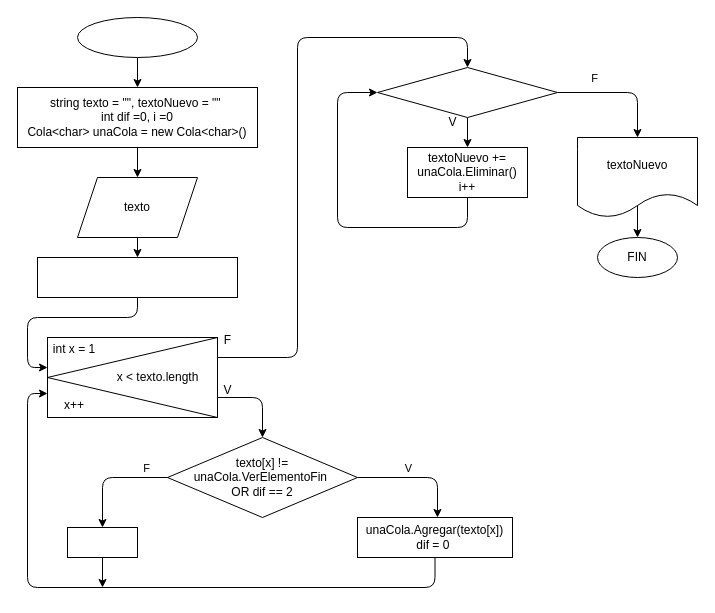
The diagram is 715 pixels wide and 613 high, and some of its shapes have lost their labels. The centre of each missing label's shape, as x and y in pixels:
dif ++: point (102, 542)
i < unaCola.Tamaño: point (467, 92)
INICIO: point (137, 37)
unaCola.Agregar(texto[0]): point (137, 277)
